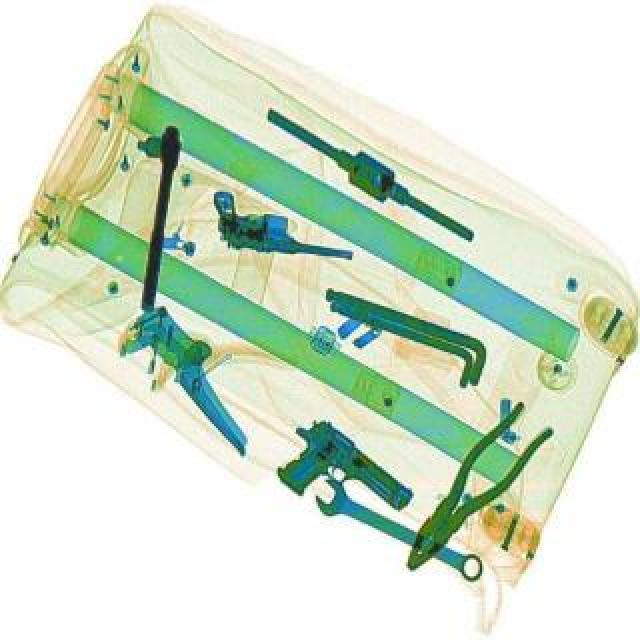gun: (264, 410, 420, 546), (208, 188, 360, 260)
scissors: (310, 468, 496, 588)
wrench: (384, 394, 562, 578)
